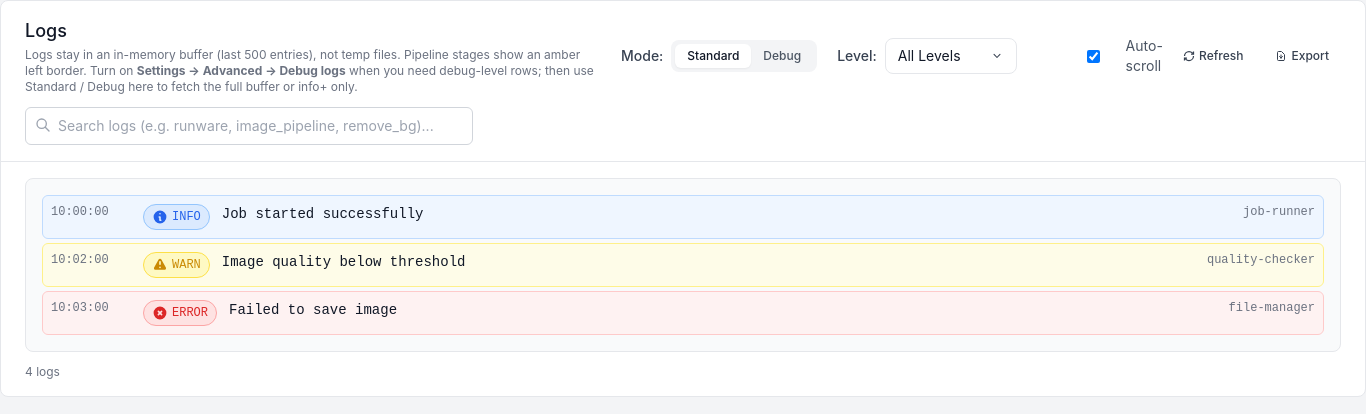
Test: LogViewer › filters logs by log level
Select "Error" in the dropdown showing "All Levels" at (951, 56), box [885,38,1017,74]
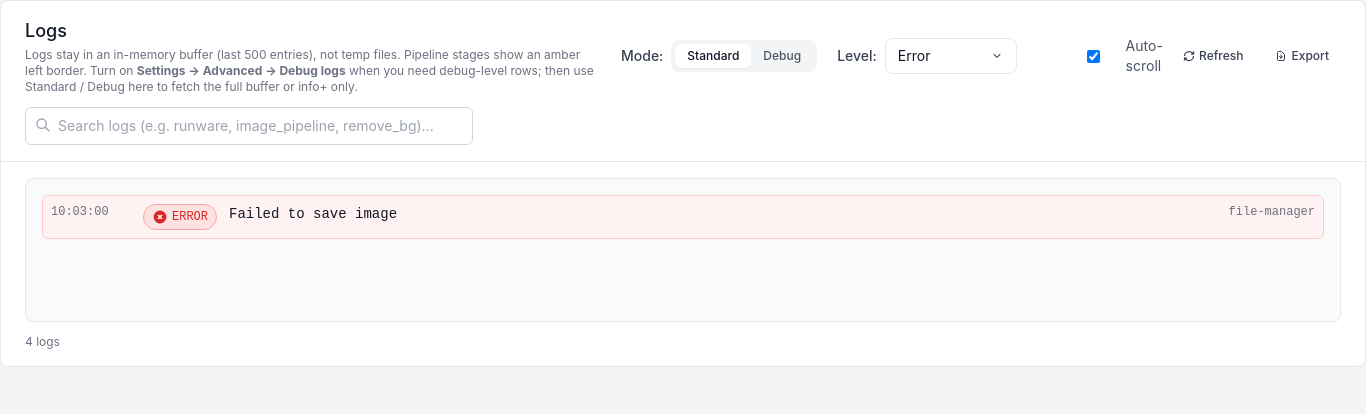
Expected: the text "Failed to save image" is shown, [229,206,397,222]
Now the text "Job started successfully" is gone
Now the text "Image quality below threshold" is gone
